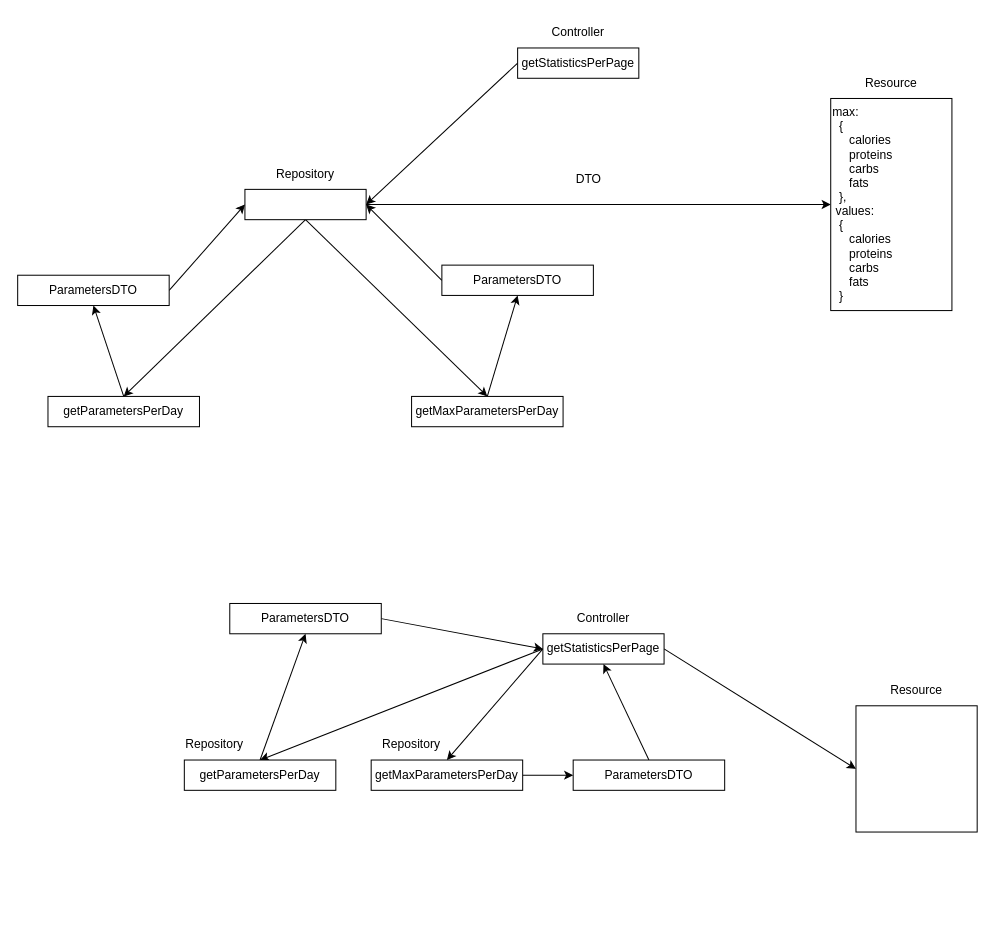
Image size: 995x943. Some labels were removed from this diagram. The shapes that lost their labels are listed below. From the top down, each one's centre as x and y in pixels, then its label:
[305,204]: getStatistcsPerDay
[916,768]: max: { maxParameters }, values: { parameters }
